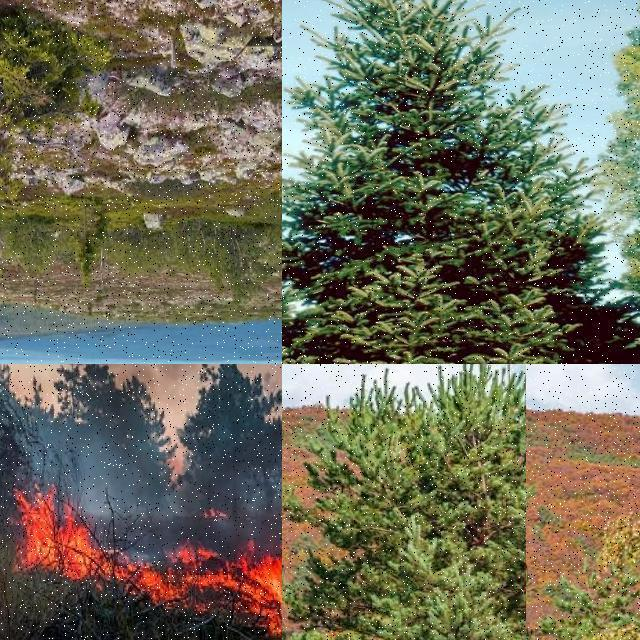tree: (282, 0, 548, 364), (282, 364, 526, 640), (114, 364, 282, 588), (572, 0, 640, 364), (182, 364, 282, 520), (244, 364, 282, 508)
